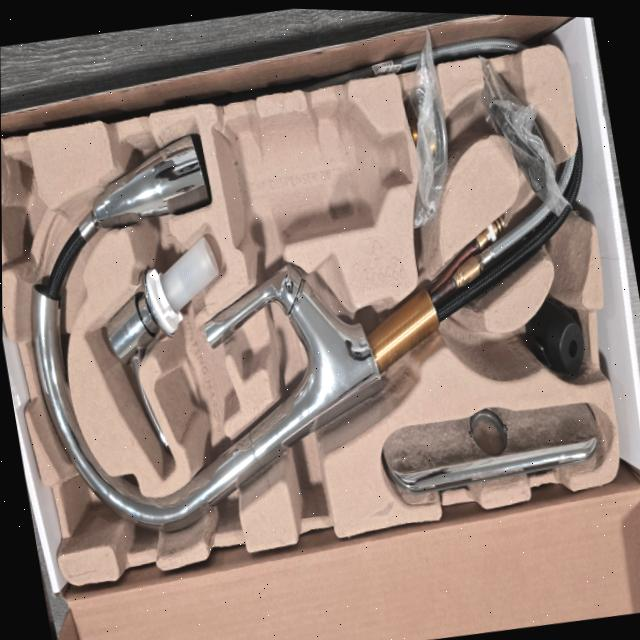1o: (33, 137, 584, 532)
2: (104, 236, 219, 452)
3m: (211, 100, 410, 248)
4: (382, 403, 598, 493)
5: (524, 295, 585, 378)
6: (406, 21, 453, 233)
7: (478, 59, 575, 219)
